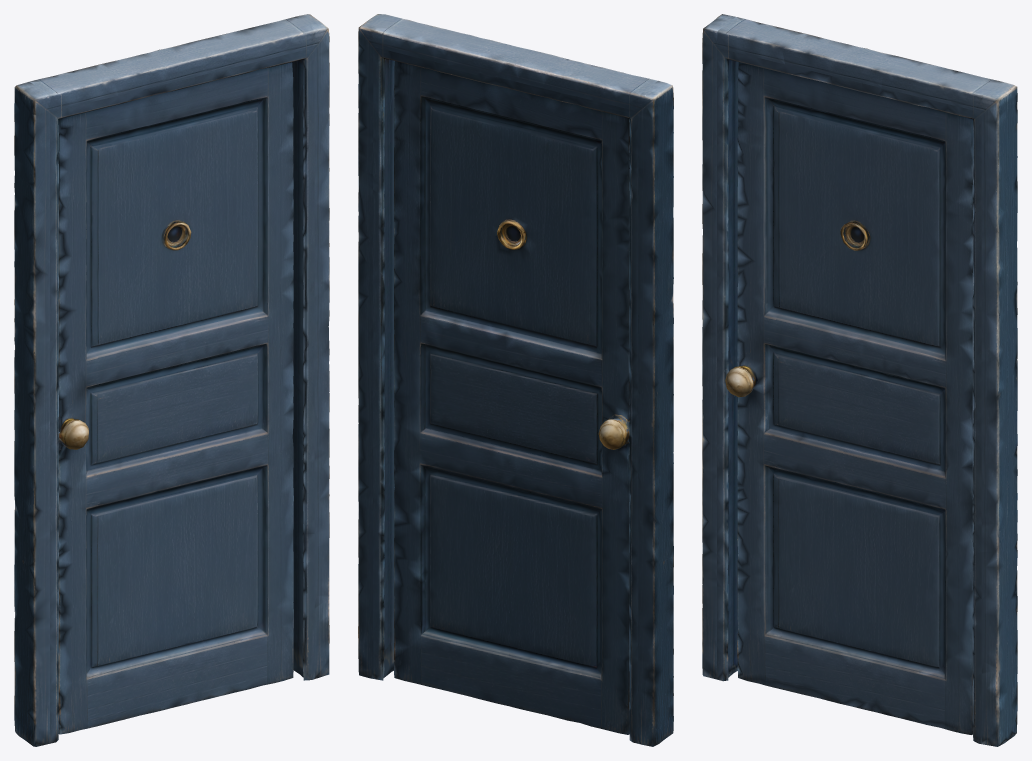
The model's file is VAR_BlueCorridor_PanelDoor.fbx.
The picture shows the model from 3 angles, left to right: view 1: azimuth 30°, elevation 25°; view 2: azimuth 150°, elevation 25°; view 3: azimuth 330°, elevation 25°; orthographic projection.
Parts seen in each view (by area): view 1: Door_Leaf, Door_Frame; view 2: Door_Leaf, Door_Frame; view 3: Door_Leaf, Door_Frame.
Part boxes in pixels (box(x1,y1,x2,y2)): Door_Leaf: box(50, 48, 314, 743); Door_Frame: box(14, 14, 329, 746); Door_Leaf: box(373, 47, 638, 743); Door_Frame: box(358, 14, 673, 746); Door_Leaf: box(717, 48, 981, 744); Door_Frame: box(702, 14, 1017, 746).
Size of the model in its own units: 47.89 by 100 by 10.13.
